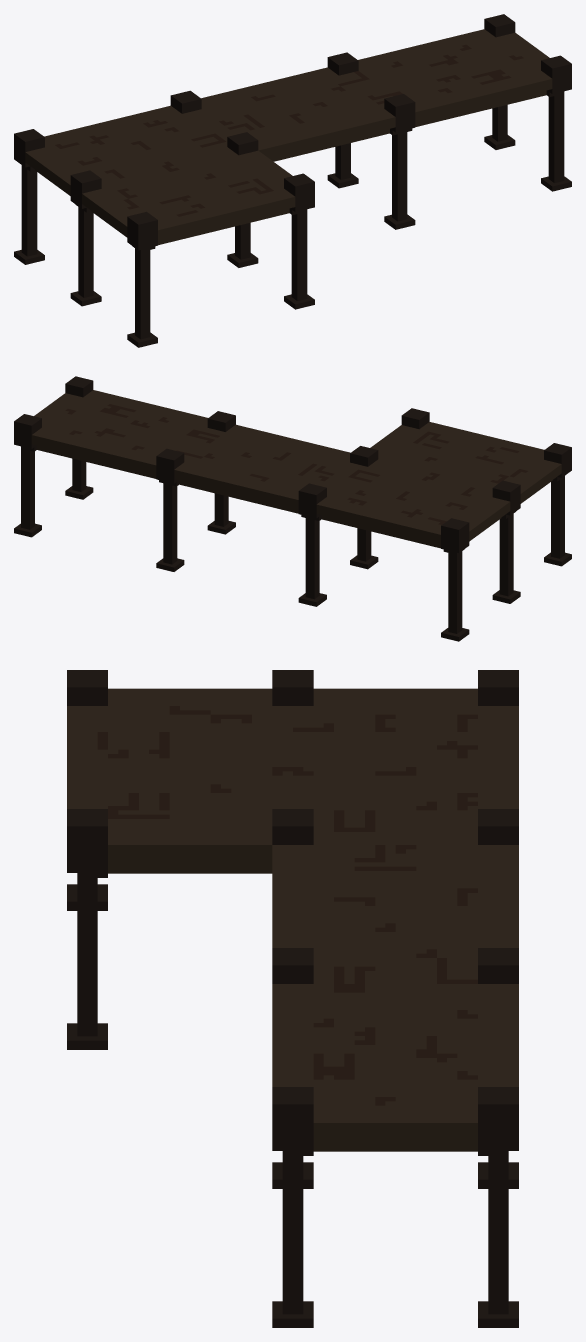
File: Dock1.obj
The picture shows the model from 3 angles, top to bottom: view 1: azimuth 30°, elevation 25°; view 2: azimuth 150°, elevation 25°; view 3: azimuth 270°, elevation 25°; orthographic projection. The views are drawn at different scales.
Parts seen in each view (by area): view 1: Dock1; view 2: Dock1; view 3: Dock1.
Part boxes in pixels (x1,y1,x2,y2): Dock1: (14, 14, 571, 347); Dock1: (14, 376, 571, 641); Dock1: (67, 670, 518, 1327).
Size of the model in its own units: 100 by 24 by 44.
1 material, 1 textured.
